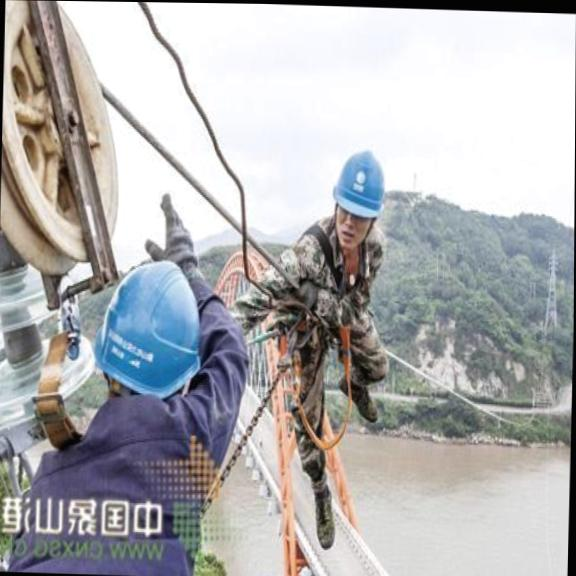no_safety_vest: (5, 376, 232, 576), (272, 223, 386, 369)
